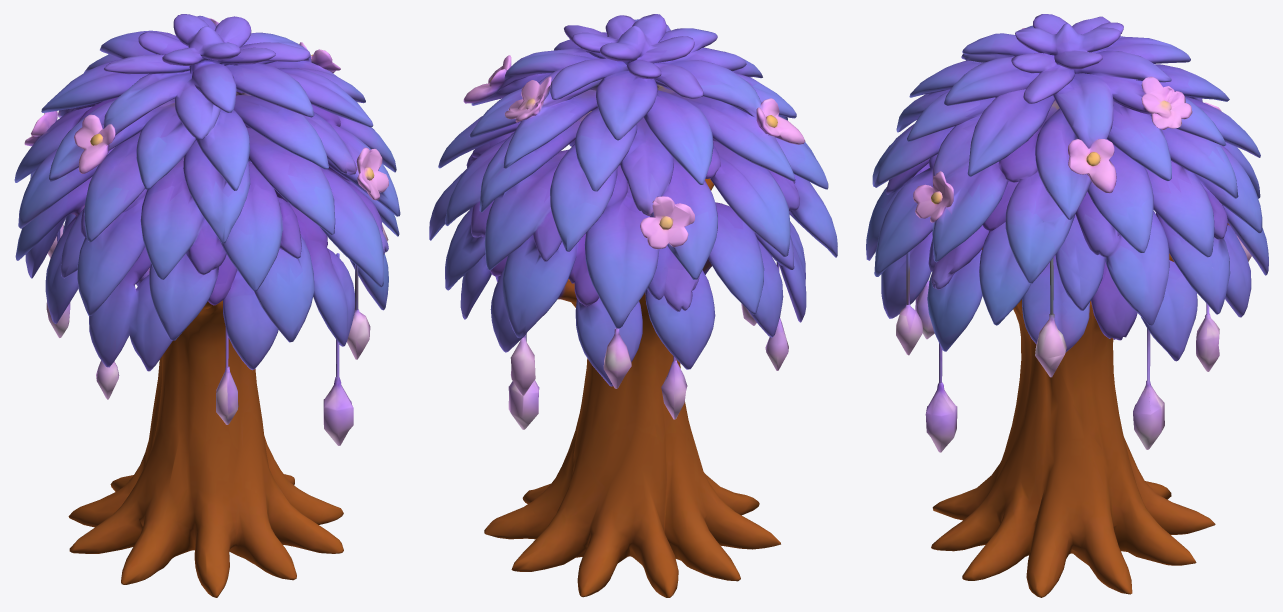
The model's file is tree_fairy_blossom.glb.
3 renders of one model, left to right at view 1: azimuth 30°, elevation 25°; view 2: azimuth 150°, elevation 25°; view 3: azimuth 270°, elevation 25°, orthographic.
Visible parts, largest first — view 1: tripo_node_2ec56a42-de9b-4482-ad58-88979ff21db5; view 2: tripo_node_2ec56a42-de9b-4482-ad58-88979ff21db5; view 3: tripo_node_2ec56a42-de9b-4482-ad58-88979ff21db5.
Boxes of the visible parts, x1,y1,x2,y2 form: tripo_node_2ec56a42-de9b-4482-ad58-88979ff21db5: [14, 14, 400, 597]; tripo_node_2ec56a42-de9b-4482-ad58-88979ff21db5: [429, 14, 837, 597]; tripo_node_2ec56a42-de9b-4482-ad58-88979ff21db5: [866, 14, 1268, 597].
Size of the model in its own units: 3.36 by 4.8 by 3.41.
Materials: 1 (1 with a texture image).
